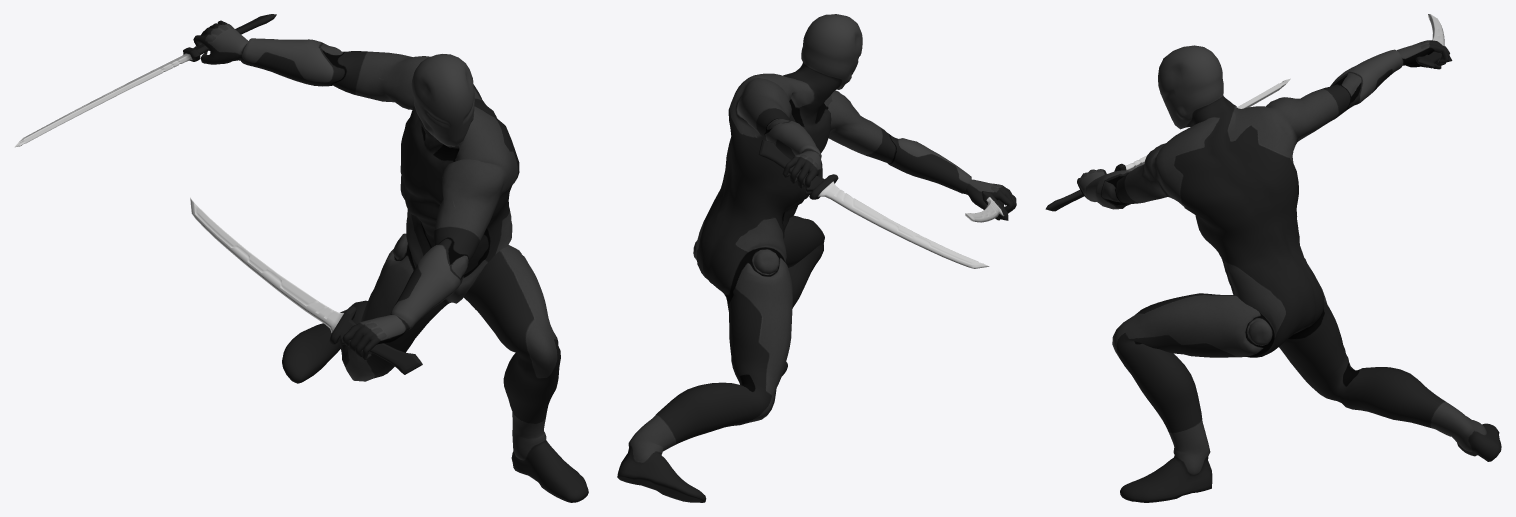
3 views of the same model, side by side, from view 1: azimuth 30°, elevation 25°; view 2: azimuth 150°, elevation 25°; view 3: azimuth 270°, elevation 25° (orthographic). The views are drawn at different scales.
Parts seen in each view (by area): view 1: Cyborg_Ninja_Killer, Sword_l, Sword_l001; view 2: Cyborg_Ninja_Killer, Sword_l001, Sword_l; view 3: Cyborg_Ninja_Killer, Sword_l, Sword_l001.
Part boxes in pixels (x1=…): Cyborg_Ninja_Killer: x1=193, y1=20, x2=588, y2=502; Sword_l: x1=190, y1=197, x2=422, y2=374; Sword_l001: x1=14, y1=14, x2=276, y2=147; Cyborg_Ninja_Killer: x1=617, y1=14, x2=1016, y2=502; Sword_l001: x1=758, y1=140, x2=989, y2=268; Sword_l: x1=965, y1=191, x2=1008, y2=222; Cyborg_Ninja_Killer: x1=1077, y1=40, x2=1501, y2=502; Sword_l: x1=1045, y1=78, x2=1290, y2=211; Sword_l001: x1=1415, y1=14, x2=1452, y2=68.
Bounding box in the file's own units: 140 × 140 × 143.
Materials: 2 (2 with a texture image).
